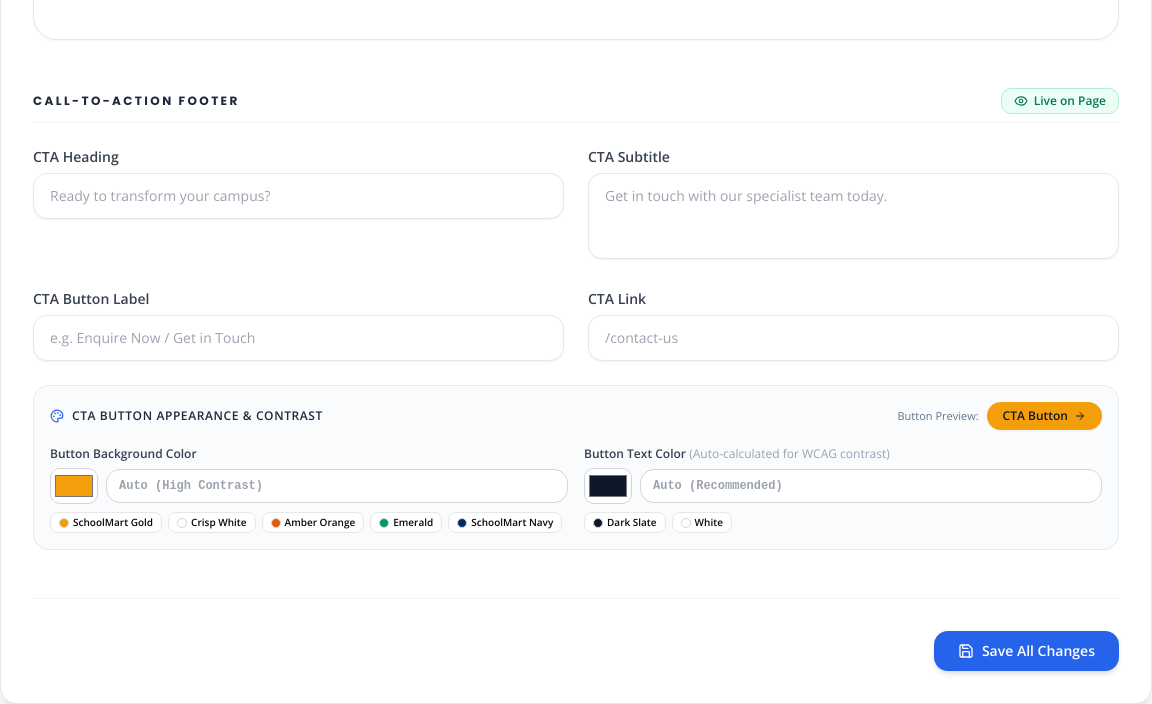
Test: UnifiedPageEditor Structured Page Save (last write wins) › save never shows "Page Conflict Detected" and succeeds with a stale page version
The image size is (1152, 704).
(page scrolled)
Click the button "Save All Changes": [1026, 651] box 934,631 -> 1119,671
(page scrolled)
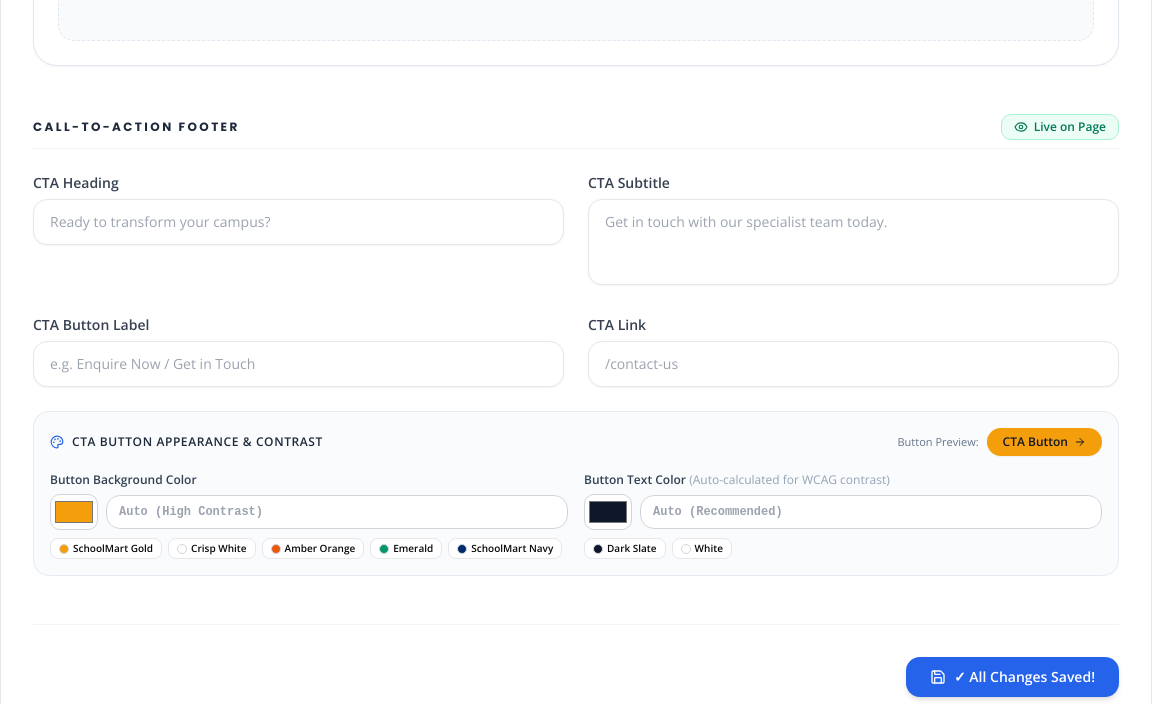
Check: the button "✓ All Changes Saved!" is shown, box 906,657 -> 1119,697
